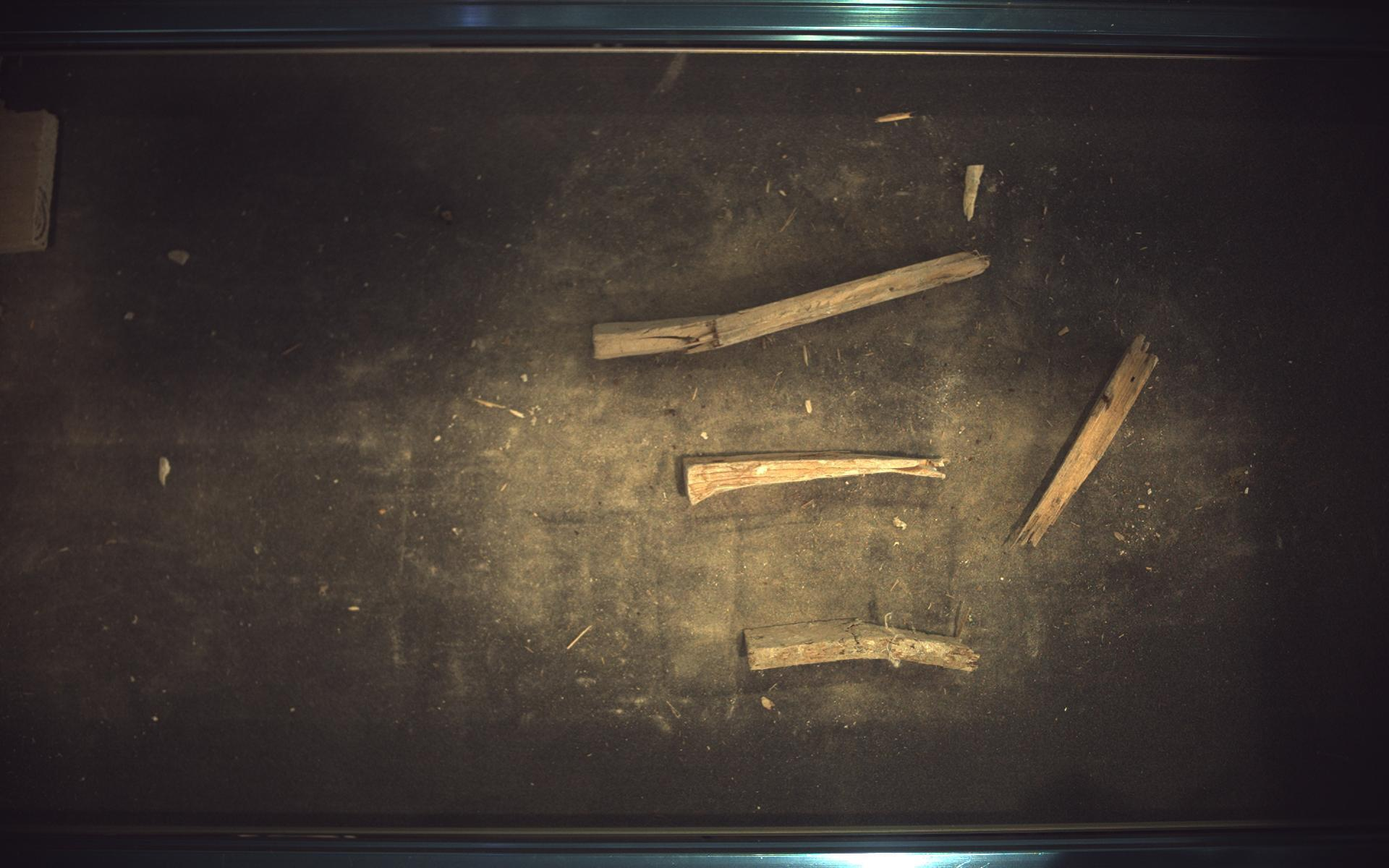wood: (595, 251, 992, 359), (1015, 334, 1160, 548), (686, 453, 948, 505), (745, 621, 982, 673), (1, 107, 57, 253)
